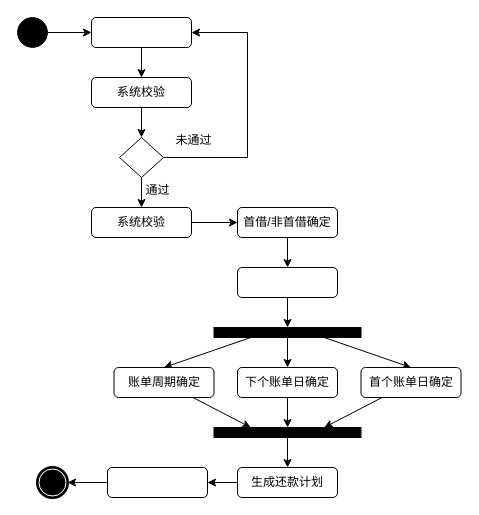
Some shapes in this 479 by 515 pixel diagram are drawn without their labels. Here are the shapes that lost their labels. From the top down, the box of each, then its label:
(90, 16, 192, 48): 输入借款金额和分期数
(236, 266, 338, 298): 系统试算
(106, 466, 208, 498): 展示还款计划
